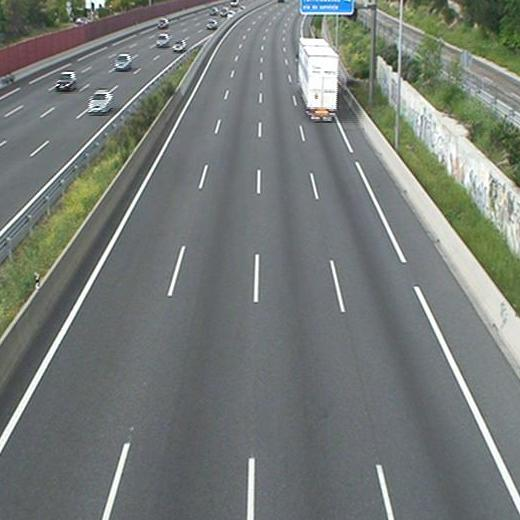truck: (299, 38, 337, 119)
